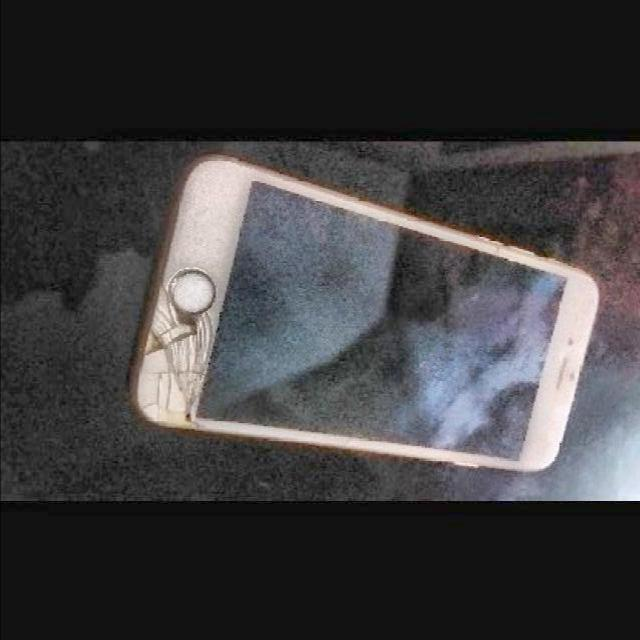Crack: (122, 281, 228, 437)
